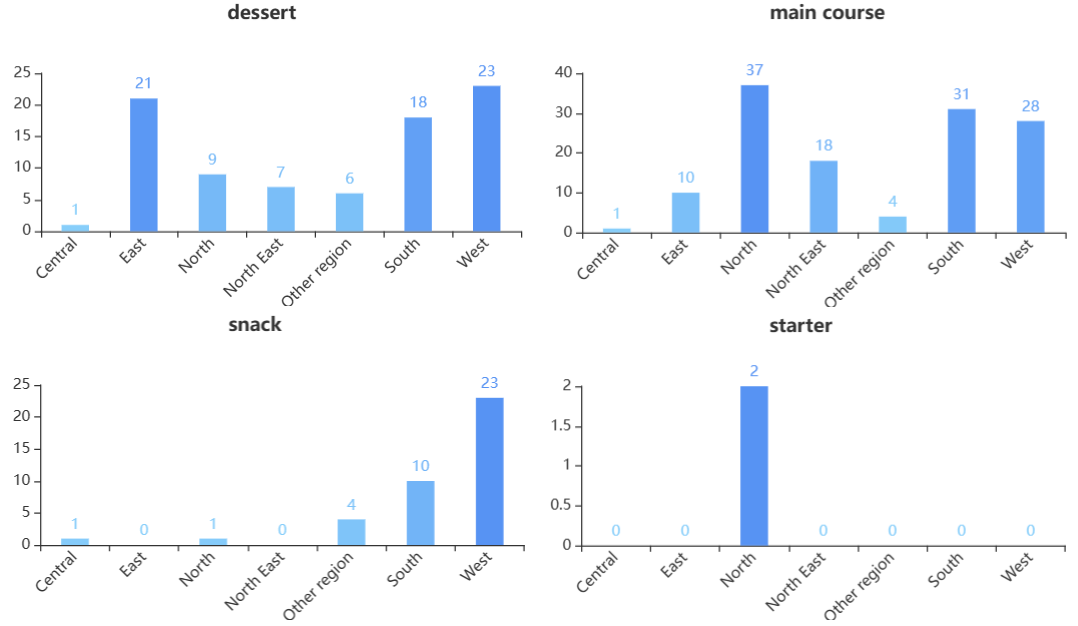

The dashboard page shown, as its layout file describes it:
{"tool":"tableau","page":{"name":"各州美食类型","canvas":[1000,1000],"units":"permille","ordinal":2},"visuals":[{"type":"worksheet","title":"dessert","mark":"Automatic","box":[287.3,5.8,307.2,902.4]},{"type":"worksheet","title":"main_course","mark":"Automatic","box":[0,15.1,286.7,902.4]},{"type":"worksheet","title":"snack","mark":"Automatic","box":[583,16.3,210.6,414.6]},{"type":"worksheet","title":"starter","mark":"Automatic","box":[570.3,379.8,210,291.5]}]}

Visuals, with their boxes on the dashboard's canvas, which has no fixed pixel size, in thousandths of its width and height (x1, y1, x2, y2). These are canvas units, not pixel positions in the 1078x626 screenshot, which may show the page scaled, cropped or inside an application window:
"dessert" worksheet: 287, 6, 594, 908
"main_course" worksheet: 0, 15, 287, 918
"snack" worksheet: 583, 16, 794, 431
"starter" worksheet: 570, 380, 780, 671
